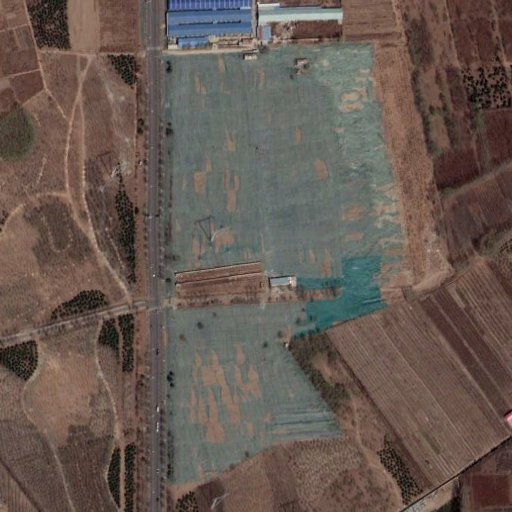cw: (164, 41, 411, 486)
